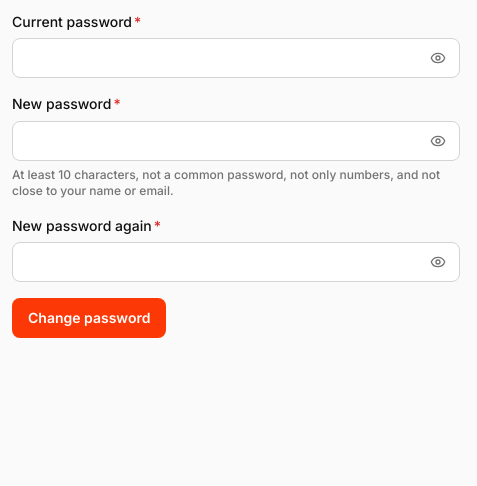
PasswordChangeForm › catches a mistyped confirmation without asking the server
The image size is (477, 486).
Type "old-password-1" into the password field with id "current-password" at (236, 58), box left=12, top=38, right=460, bottom=78
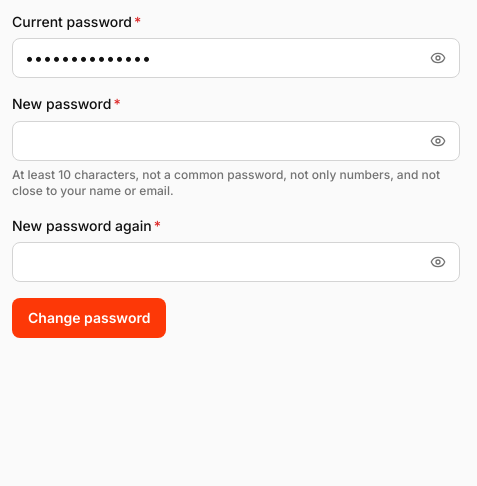
Type "new-password-long-1" into the password field with id "new-password" at (236, 141), box left=12, top=121, right=460, bottom=161
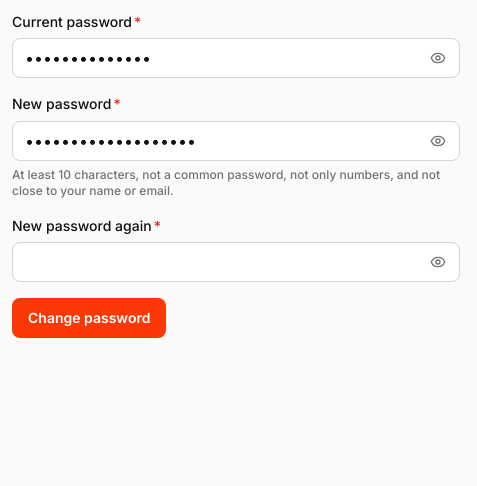
Type "new-password-long-2" into the password field with id "confirm-password" at (236, 262), box left=12, top=242, right=460, bottom=282
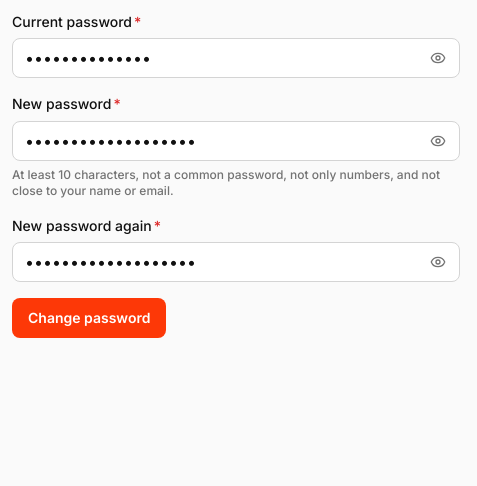
Click the button "Change password" at (89, 318), box left=12, top=298, right=166, bottom=338
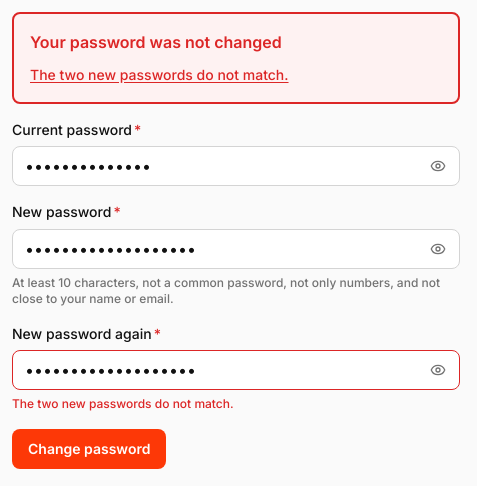
Result: the link "The two new passwords do not match." is shown at left=30, top=66, right=288, bottom=83
